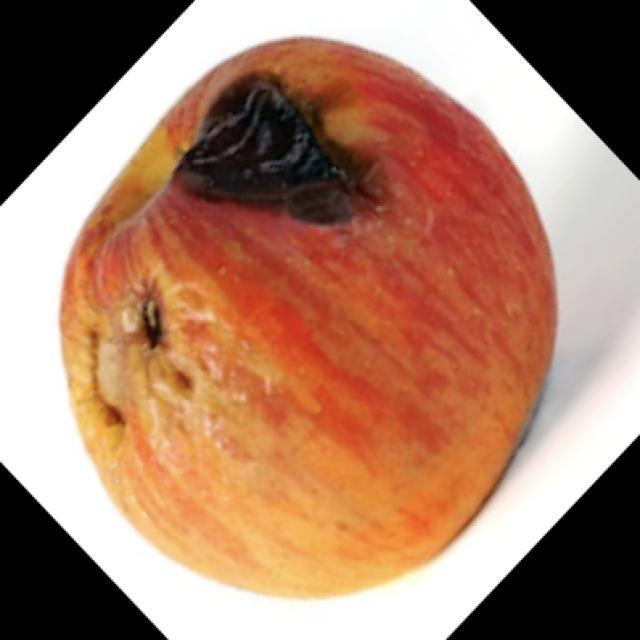Rotten: (57, 31, 556, 595)
